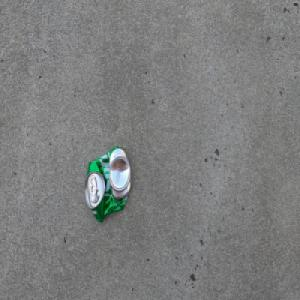SodaCan: (84, 145, 131, 223)
